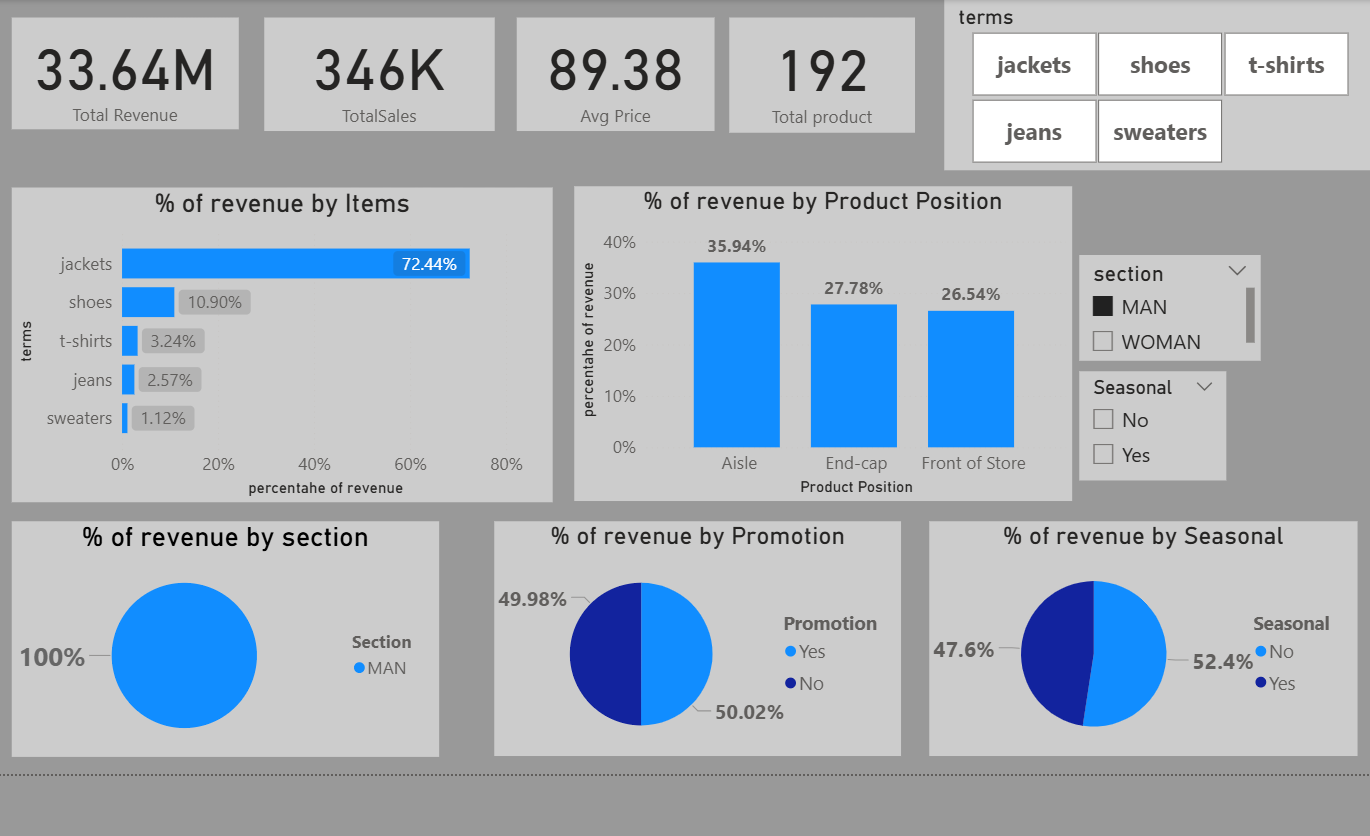

What the dashboard file says about the page in this screenshot:
{"tool":"powerbi","page":{"name":"Page 1","canvas":[1280,720],"ordinal":0},"visuals":[{"type":"pieChart","title":"% of revenue by section","fields":{"Category":["Zara_Sales_Analysis.section"],"Y":["Zara_Sales_Analysis.percentahe of revenue"]},"box":[13,485.3,397.4,218.9],"z":0},{"type":"pieChart","title":"% of revenue by Seasonal","fields":{"Y":["Zara_Sales_Analysis.percentahe of revenue"],"Category":["Zara_Sales_Analysis.Seasonal"]},"box":[866.7,485,398.3,218.3],"z":1000},{"type":"barChart","title":"% of revenue by Items","fields":{"Y":["Zara_Sales_Analysis.percentahe of revenue"],"Category":["Zara_Sales_Analysis.terms"]},"box":[12.9,174.3,502.9,292.9],"z":2000},{"type":"pieChart","title":"% of revenue by Promotion","fields":{"Y":["Zara_Sales_Analysis.percentahe of revenue"],"Category":["Zara_Sales_Analysis.Promotion"]},"box":[461.2,485,378.8,218.8],"z":3000},{"type":"columnChart","title":"% of revenue by Product Position","fields":{"Category":["Zara_Sales_Analysis.Product Position"],"Y":["Zara_Sales_Analysis.percentahe of revenue"]},"box":[535.7,172.9,462.9,292.9],"z":4000},{"type":"slicer","fields":{"Values":["Zara_Sales_Analysis.section"]},"box":[1005.7,237.1,168.6,98.6],"z":5000},{"type":"card","fields":{"Values":["Zara_Sales_Analysis.TotalSales"]},"box":[247.1,15.7,214.3,105.7],"z":6000},{"type":"card","fields":{"Values":["Zara_Sales_Analysis.Total Revenue"]},"box":[12.9,15.7,211.4,104.3],"z":7000},{"type":"slicer","fields":{"Values":["Zara_Sales_Analysis.terms"]},"box":[880,0,400,158.6],"z":8000},{"type":"card","fields":{"Values":["Zara_Sales_Analysis.Avg Price"]},"box":[482.9,15.7,184.3,105.7],"z":9000},{"type":"slicer","fields":{"Values":["Zara_Sales_Analysis.Seasonal"]},"box":[1005.7,345.7,137.1,101.4],"z":10000},{"type":"card","fields":{"Values":["Zara_Sales_Analysis.Total product"]},"box":[680,15.7,172.9,107.1],"z":10001}]}

Visuals, with their boxes on the page's 1280x720 design canvas (x1, y1, x2, y2). These are canvas units, not pixel positions in the 1370x836 screenshot, which may show the page scaled, cropped or inside an application window:
"% of revenue by section" pieChart: l=13, t=485, r=410, b=704
"% of revenue by Seasonal" pieChart: l=867, t=485, r=1265, b=703
"% of revenue by Items" barChart: l=13, t=174, r=516, b=467
"% of revenue by Promotion" pieChart: l=461, t=485, r=840, b=704
"% of revenue by Product Position" columnChart: l=536, t=173, r=999, b=466
slicer - Zara_Sales_Analysis.section: l=1006, t=237, r=1174, b=336
card - Zara_Sales_Analysis.TotalSales: l=247, t=16, r=461, b=121
card - Zara_Sales_Analysis.Total Revenue: l=13, t=16, r=224, b=120
slicer - Zara_Sales_Analysis.terms: l=880, t=0, r=1280, b=159
card - Zara_Sales_Analysis.Avg Price: l=483, t=16, r=667, b=121
slicer - Zara_Sales_Analysis.Seasonal: l=1006, t=346, r=1143, b=447
card - Zara_Sales_Analysis.Total product: l=680, t=16, r=853, b=123
